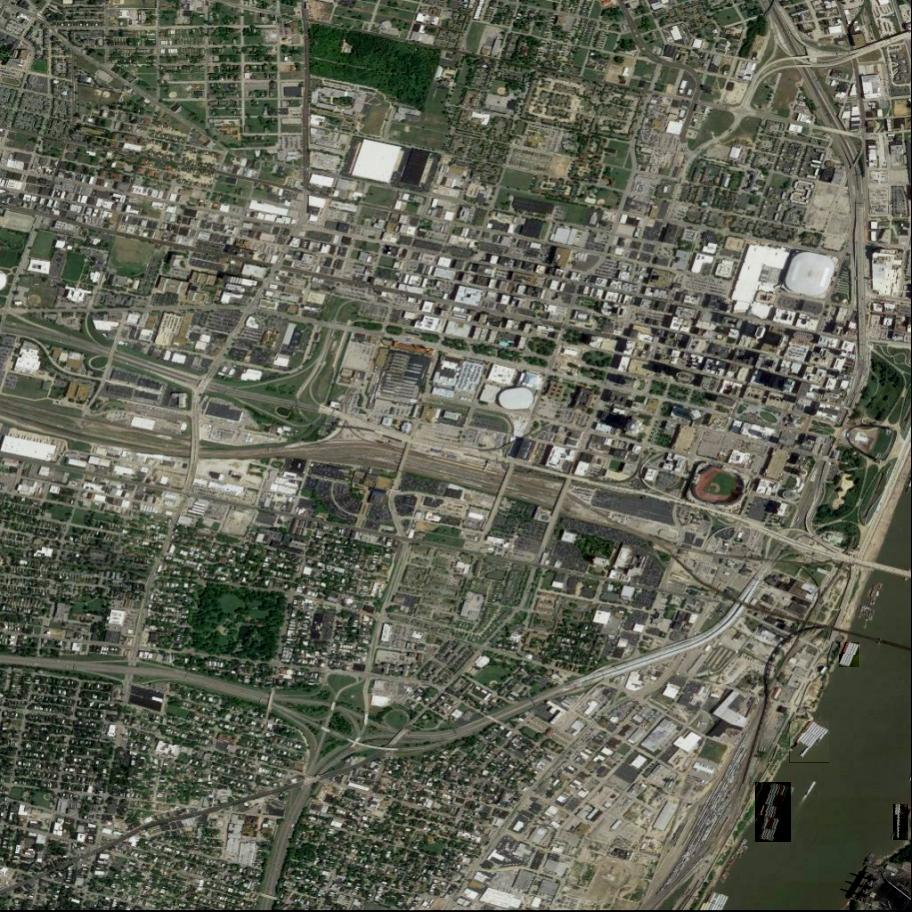ship: (755, 780, 792, 845), (790, 721, 830, 765), (839, 642, 861, 668), (894, 804, 908, 839)
